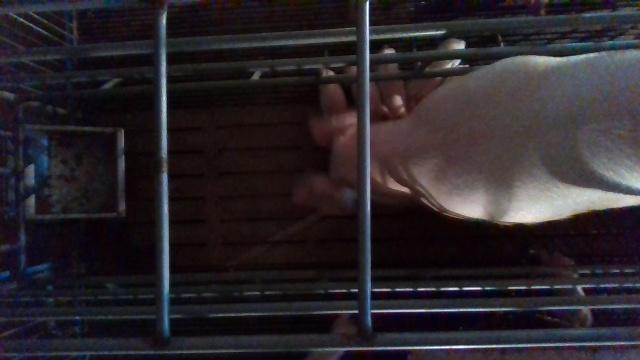piglet: (541, 249, 595, 328), (407, 38, 466, 108), (373, 43, 409, 120), (305, 312, 358, 360), (347, 65, 393, 120)
sow-stand: (291, 50, 640, 223)
